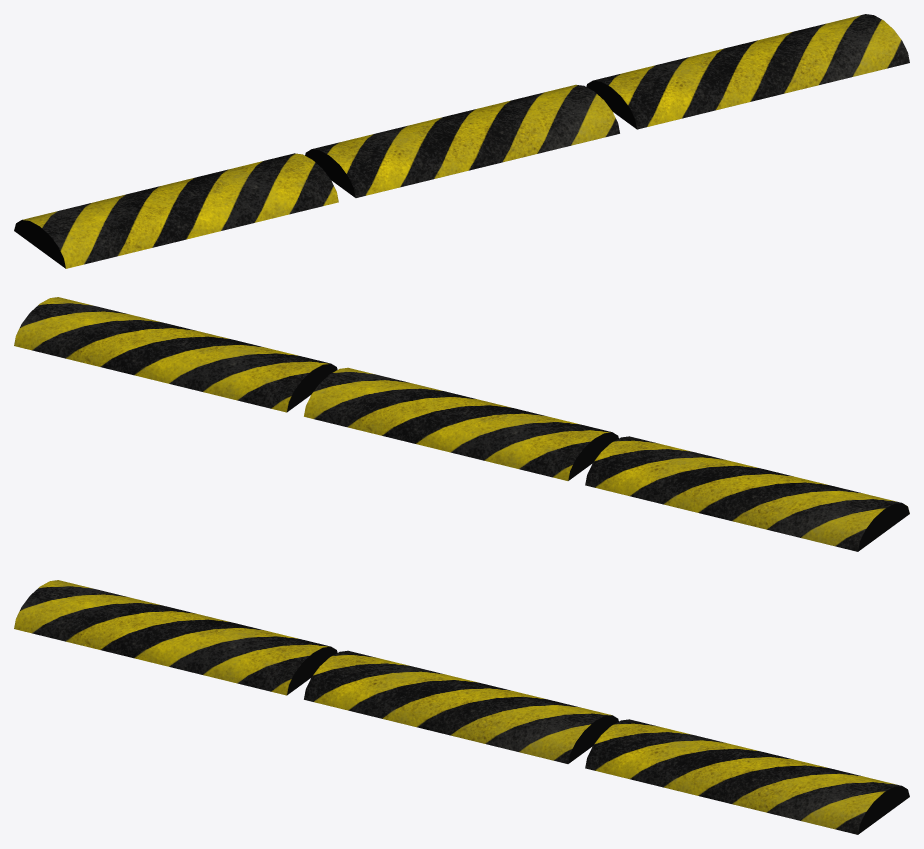
File: SM_Speedbump_01.glb
3 views of the same model, one above another, from view 1: azimuth 30°, elevation 25°; view 2: azimuth 150°, elevation 25°; view 3: azimuth 330°, elevation 25° (orthographic).
Visible parts, largest first — view 1: SM_Speedbump_01; view 2: SM_Speedbump_01; view 3: SM_Speedbump_01.
Part boxes in pixels (x1,y1,x2,y2): SM_Speedbump_01: (14,14,909,268); SM_Speedbump_01: (14,297,909,551); SM_Speedbump_01: (14,580,909,834).
Bounding box in the file's own units: 7.86 × 0.2081 × 0.8387.
1 material, 1 textured.
